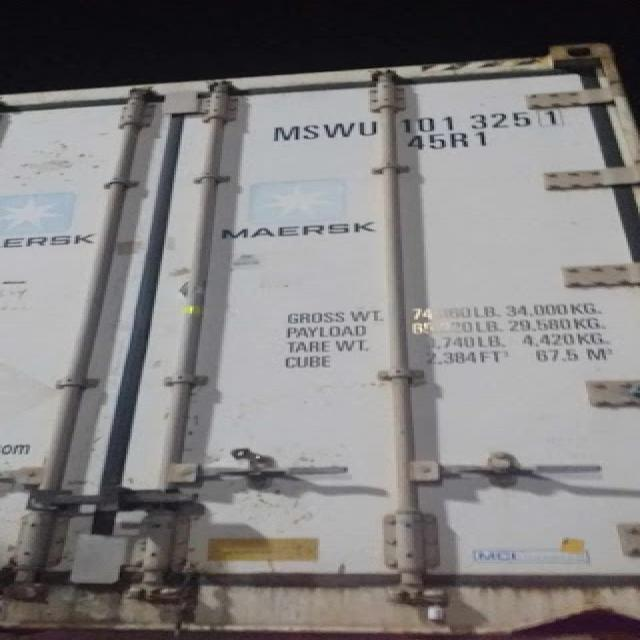ISO: (402, 130, 494, 154)
container_number: (274, 106, 564, 134)
